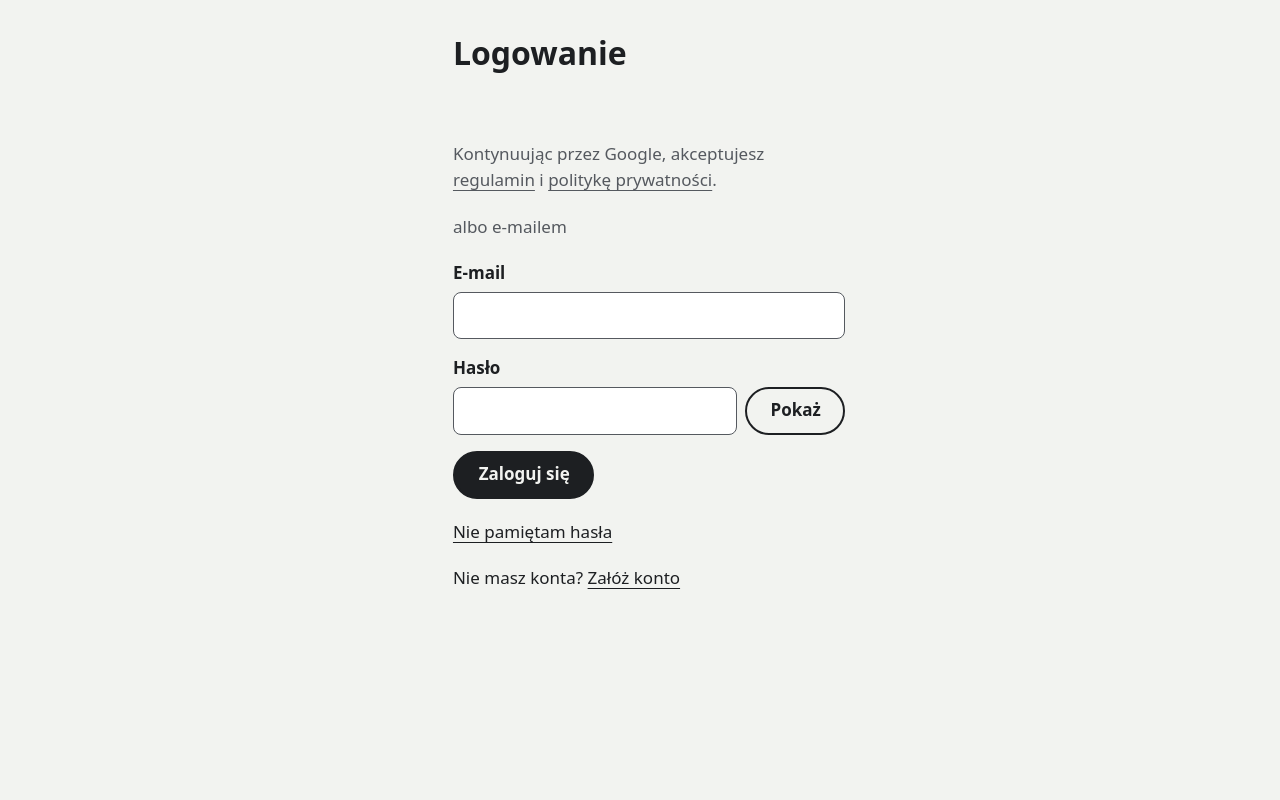
Test: login page › logs in and shows the email on the account page
Type "ola@example.com" into the field labelled "E-mail" at (649, 315), box left=453, top=292, right=845, bottom=339
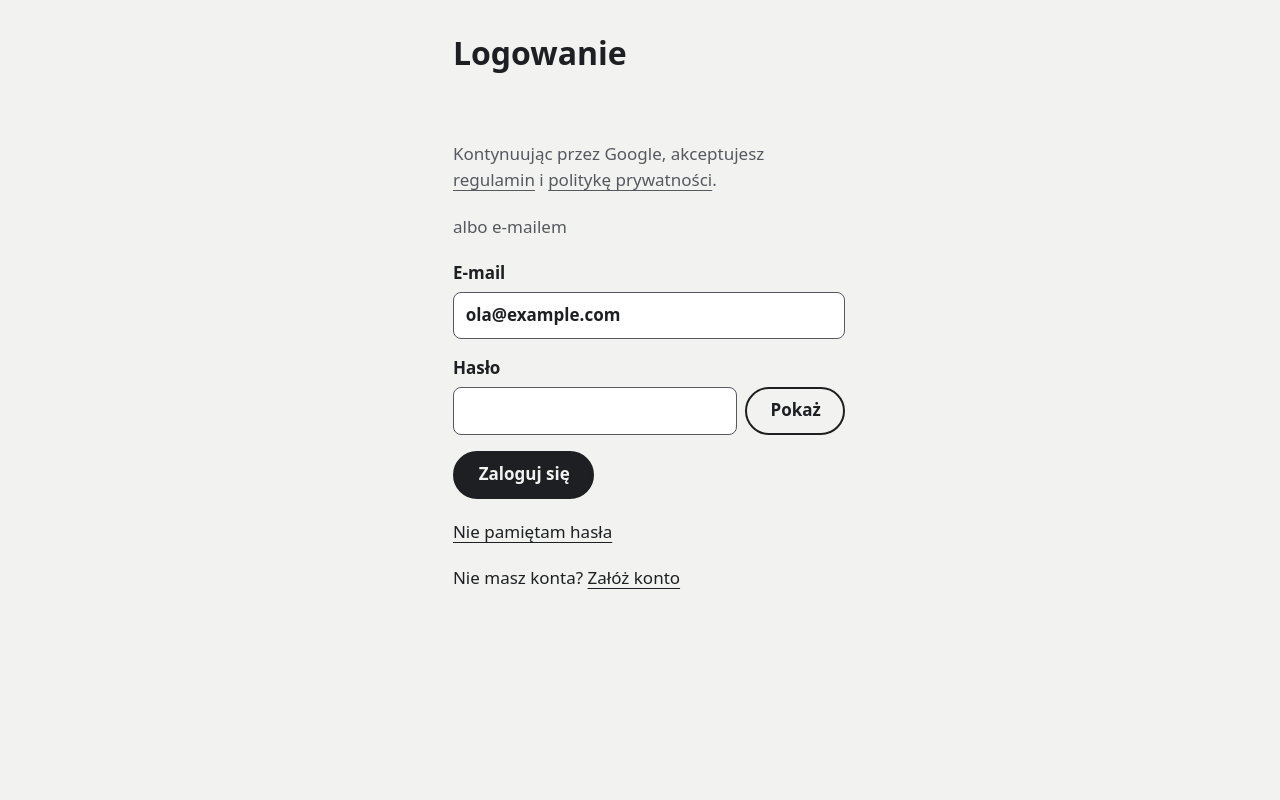
Type "dlugie-haslo-123" into the password field labelled "Hasło" at (595, 411), box left=453, top=387, right=737, bottom=435
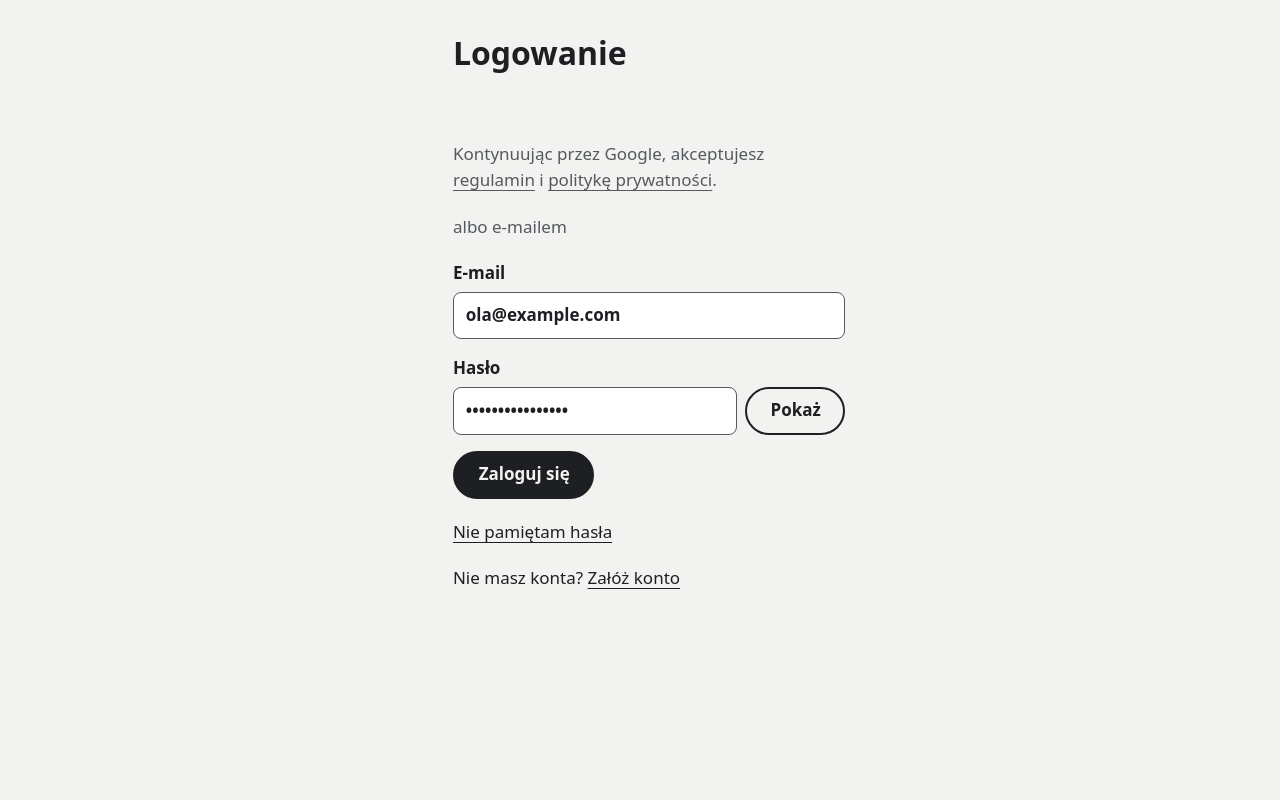
Submit the form, box left=453, top=260, right=845, bottom=499
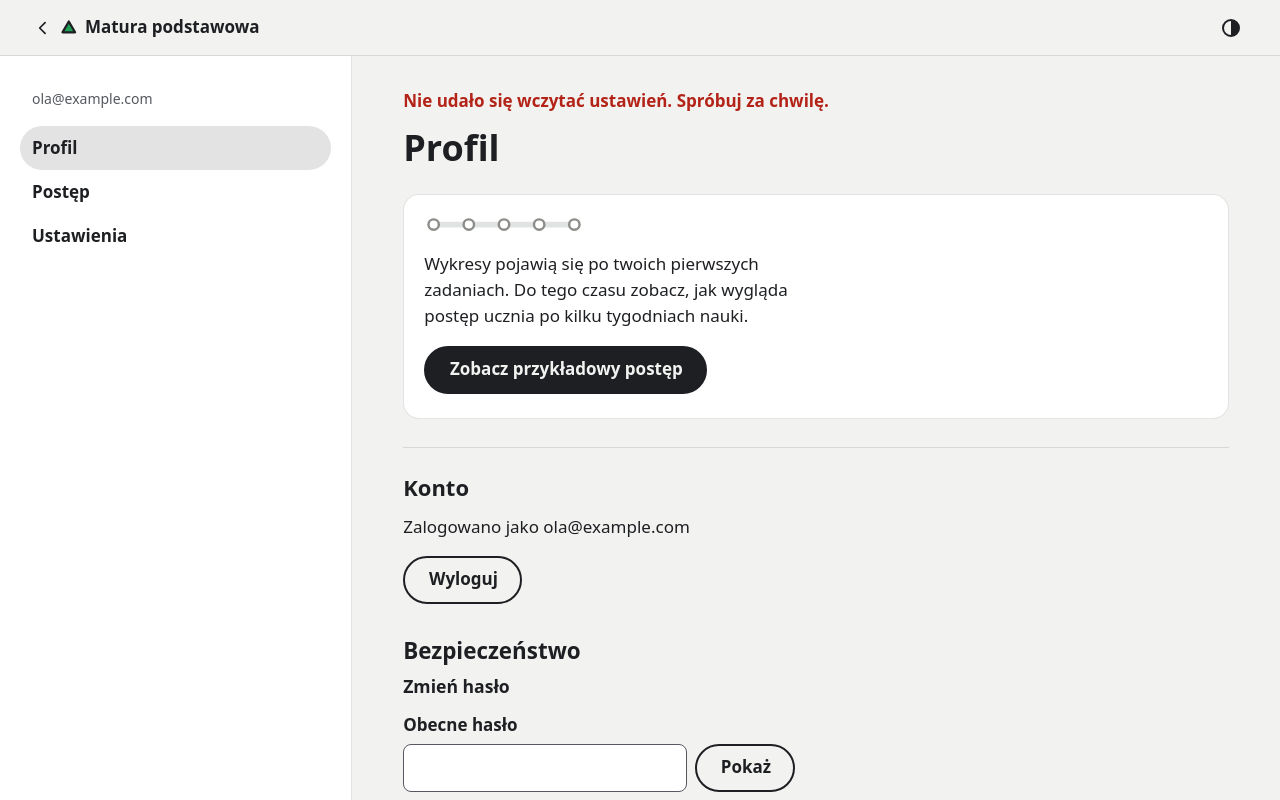
Result: the text "Zalogowano jako ola@example.com" is shown at left=403, top=514, right=690, bottom=540
